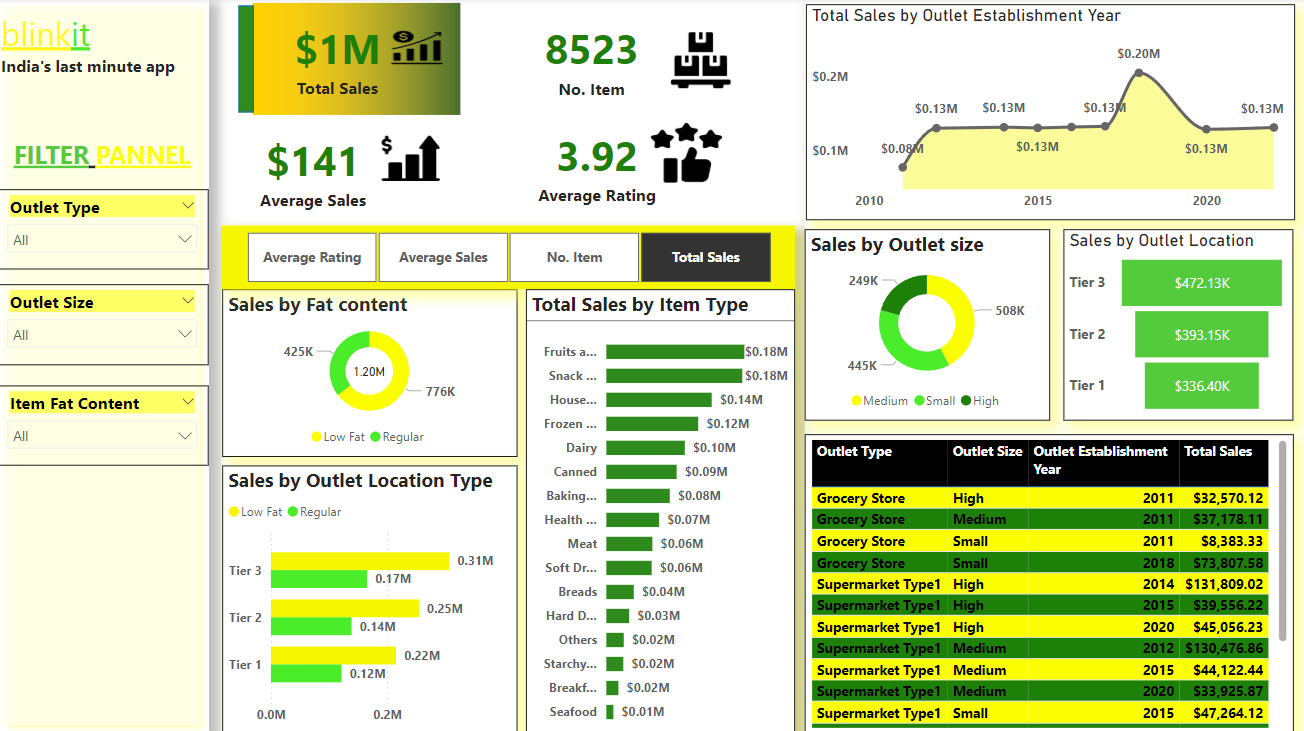

The dashboard page shown, as its layout file describes it:
{"tool":"powerbi","page":{"name":"Page 1","canvas":[1280,720],"ordinal":0},"visuals":[{"type":"shape","box":[0,0,207.9,720.2],"z":0},{"type":"group","id":"g1","title":"Group 1","box":[208,0,289.9,119.7],"z":0,"group":"g3"},{"type":"textbox","box":[0,7.3,199.3,88],"z":1000},{"type":"group","id":"g2","title":"Group 2","box":[395.5,110.2,386,108.2],"z":1000,"group":"g3"},{"type":"group","id":"g3","title":"Group 5","box":[110.1,0,671.3,222.6],"z":2000},{"type":"image","box":[656.1,26.6,68.5,68.6],"z":2000,"group":"g5"},{"type":"group","id":"g4","title":"Group 3","box":[110.1,116.2,400.6,106.4],"z":2000,"group":"g3"},{"type":"image","box":[636.2,118.1,79.1,68.6],"z":2000,"group":"g2"},{"type":"group","id":"g5","title":"Group 4","box":[429.4,7,307.5,105],"z":3000,"group":"g3"},{"type":"card","fields":{"Values":["Table.No. Item"]},"box":[429.4,7,307.5,105],"z":3000,"group":"g5"},{"type":"card","fields":{"Values":["Table.Average Rating"]},"box":[395.5,110.2,386.6,107.8],"z":3000,"group":"g2"},{"type":"image","box":[370.2,128.8,70.3,57.4],"z":3000,"group":"g4"},{"type":"shape","box":[220.1,222.6,561.3,497.7],"z":3000},{"type":"card","fields":{"Values":["Table.Average Sales"]},"box":[110.1,116.2,400.6,106.4],"z":4000,"group":"g4"},{"type":"donutChart","title":"Sales by Fat content","fields":{"Category":["BlinkIT Grocery Data.Item Fat Content"],"Y":["Measure Selector.Selected Measure"]},"box":[221.3,284.9,288.6,163.9],"z":4000},{"type":"image","box":[208,0,289.9,119.7],"z":5000,"group":"g1"},{"type":"slicer","fields":{"Values":["Measure Selector.Measure Name"]},"box":[220.1,222.6,561.3,62.4],"z":5000},{"type":"shape","box":[237.4,7.2,15.1,104.6],"z":5625,"group":"g1"},{"type":"clusteredBarChart","title":"Sales by Outlet Location Type ","fields":{"Category":["BlinkIT Grocery Data.Outlet Location Type"],"Y":["Measure Selector.Selected Measure"],"Series":["BlinkIT Grocery Data.Item Fat Content"]},"box":[221.3,457.3,288.6,262.9],"z":6000},{"type":"card","fields":{"Values":["Table.Total Sales"]},"box":[208,4.2,252.5,111.5],"z":6125,"group":"g1"},{"type":"image","box":[378.6,26.4,68.3,43.1],"z":6625,"group":"g1"},{"type":"card","fields":{"Values":["Measure Selector.Selected Measure"]},"box":[342.4,344.8,45.2,45.2],"z":7000},{"type":"barChart","fields":{"Y":["Table.Total Sales"],"Category":["BlinkIT Grocery Data.Item Type"]},"box":[518.5,284.9,262.9,435.3],"z":8000},{"type":"shape","box":[791.2,0,489.1,720.2],"z":9000},{"type":"areaChart","fields":{"Category":["BlinkIT Grocery Data.Outlet Establishment Year"],"Y":["Table.Total Sales"]},"box":[791.2,6.1,478.1,211.6],"z":10000},{"type":"donutChart","title":"Sales by Outlet size","fields":{"Y":["Measure Selector.Selected Measure"],"Category":["BlinkIT Grocery Data.Outlet Size"]},"box":[791.2,226.2,239.7,187.1],"z":11000},{"type":"funnel","title":" Sales by Outlet Location ","fields":{"Category":["BlinkIT Grocery Data.Outlet Location Type"],"Y":["Table.Total Sales"]},"box":[1044.3,226.2,225,187.1],"z":12000},{"type":"tableEx","fields":{"Values":["BlinkIT Grocery Data.Outlet Type","BlinkIT Grocery Data.Outlet Size","BlinkIT Grocery Data.Outlet Establishment Year","Table.Total Sales"]},"box":[791.2,426.8,478.1,293.5],"z":13000},{"type":"textbox","box":[0,132.1,207.9,63.6],"z":14000},{"type":"slicer","fields":{"Values":["BlinkIT Grocery Data.Outlet Type"]},"box":[0,187.1,207.9,78.3],"z":15000},{"type":"slicer","fields":{"Values":["BlinkIT Grocery Data.Outlet Size"]},"box":[0,280,207.9,79.5],"z":16000},{"type":"slicer","fields":{"Values":["BlinkIT Grocery Data.Item Fat Content"]},"box":[0,379.1,207.9,78.3],"z":17000}]}

Visuals, with their boxes in screenshot pixels (x1, y1, x2, y2), scaled from the page's 1280x720 canvas onto the 1304x731 screenshot:
shape: (0,0,212,730)
"Group 1" group: (212,0,507,122)
textbox: (0,7,203,97)
"Group 2" group: (403,112,796,222)
"Group 5" group: (112,0,796,226)
image: (668,27,738,97)
"Group 3" group: (112,118,520,226)
image: (648,120,729,190)
"Group 4" group: (437,7,751,114)
card - Table.No. Item: (437,7,751,114)
card - Table.Average Rating: (403,112,797,221)
image: (377,131,449,189)
shape: (224,226,796,730)
card - Table.Average Sales: (112,118,520,226)
"Sales by Fat content" donutChart: (225,289,519,456)
image: (212,0,507,122)
slicer - Measure Selector.Measure Name: (224,226,796,289)
shape: (242,7,257,114)
"Sales by Outlet Location Type " clusteredBarChart: (225,464,519,730)
card - Table.Total Sales: (212,4,469,117)
image: (386,27,455,71)
card - Measure Selector.Selected Measure: (349,350,395,396)
barChart - Table.Total Sales x BlinkIT Grocery Data.Item Type: (528,289,796,730)
shape: (806,0,1303,730)
areaChart - BlinkIT Grocery Data.Outlet Establishment Year x Table.Total Sales: (806,6,1293,221)
"Sales by Outlet size" donutChart: (806,230,1050,420)
" Sales by Outlet Location " funnel: (1064,230,1293,420)
tableEx - BlinkIT Grocery Data.Outlet Type x BlinkIT Grocery Data.Outlet Size: (806,433,1293,730)
textbox: (0,134,212,199)
slicer - BlinkIT Grocery Data.Outlet Type: (0,190,212,269)
slicer - BlinkIT Grocery Data.Outlet Size: (0,284,212,365)
slicer - BlinkIT Grocery Data.Item Fat Content: (0,385,212,464)
